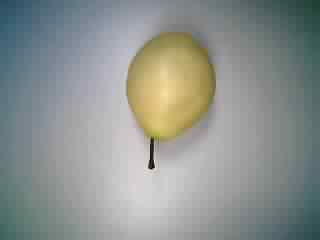pear: (110, 23, 228, 176)
